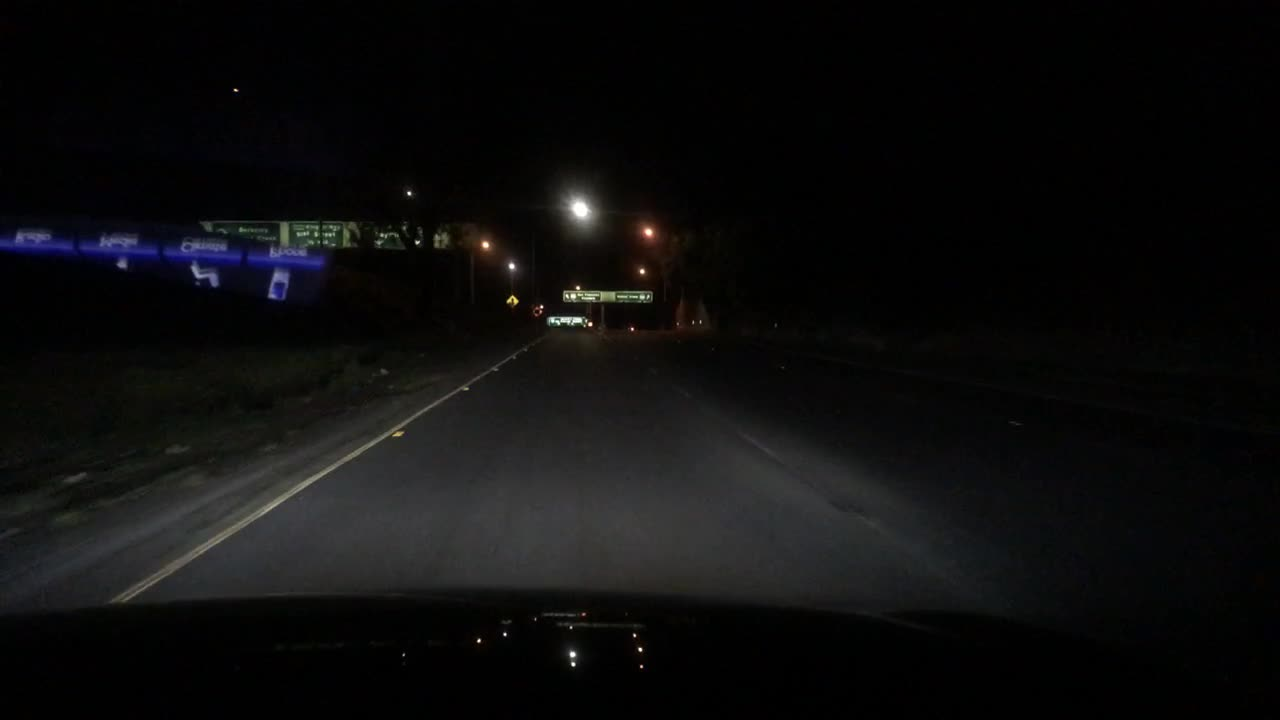traffic sign: (208, 219, 281, 254), (281, 220, 341, 248), (375, 224, 445, 248), (613, 289, 653, 303), (563, 291, 599, 303), (505, 294, 520, 306), (531, 303, 543, 314)
